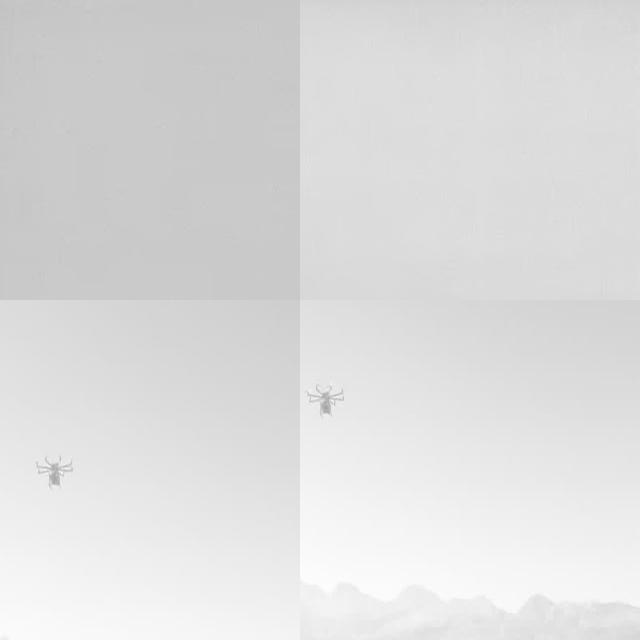drone: (30, 446, 74, 498), (305, 374, 349, 424)
